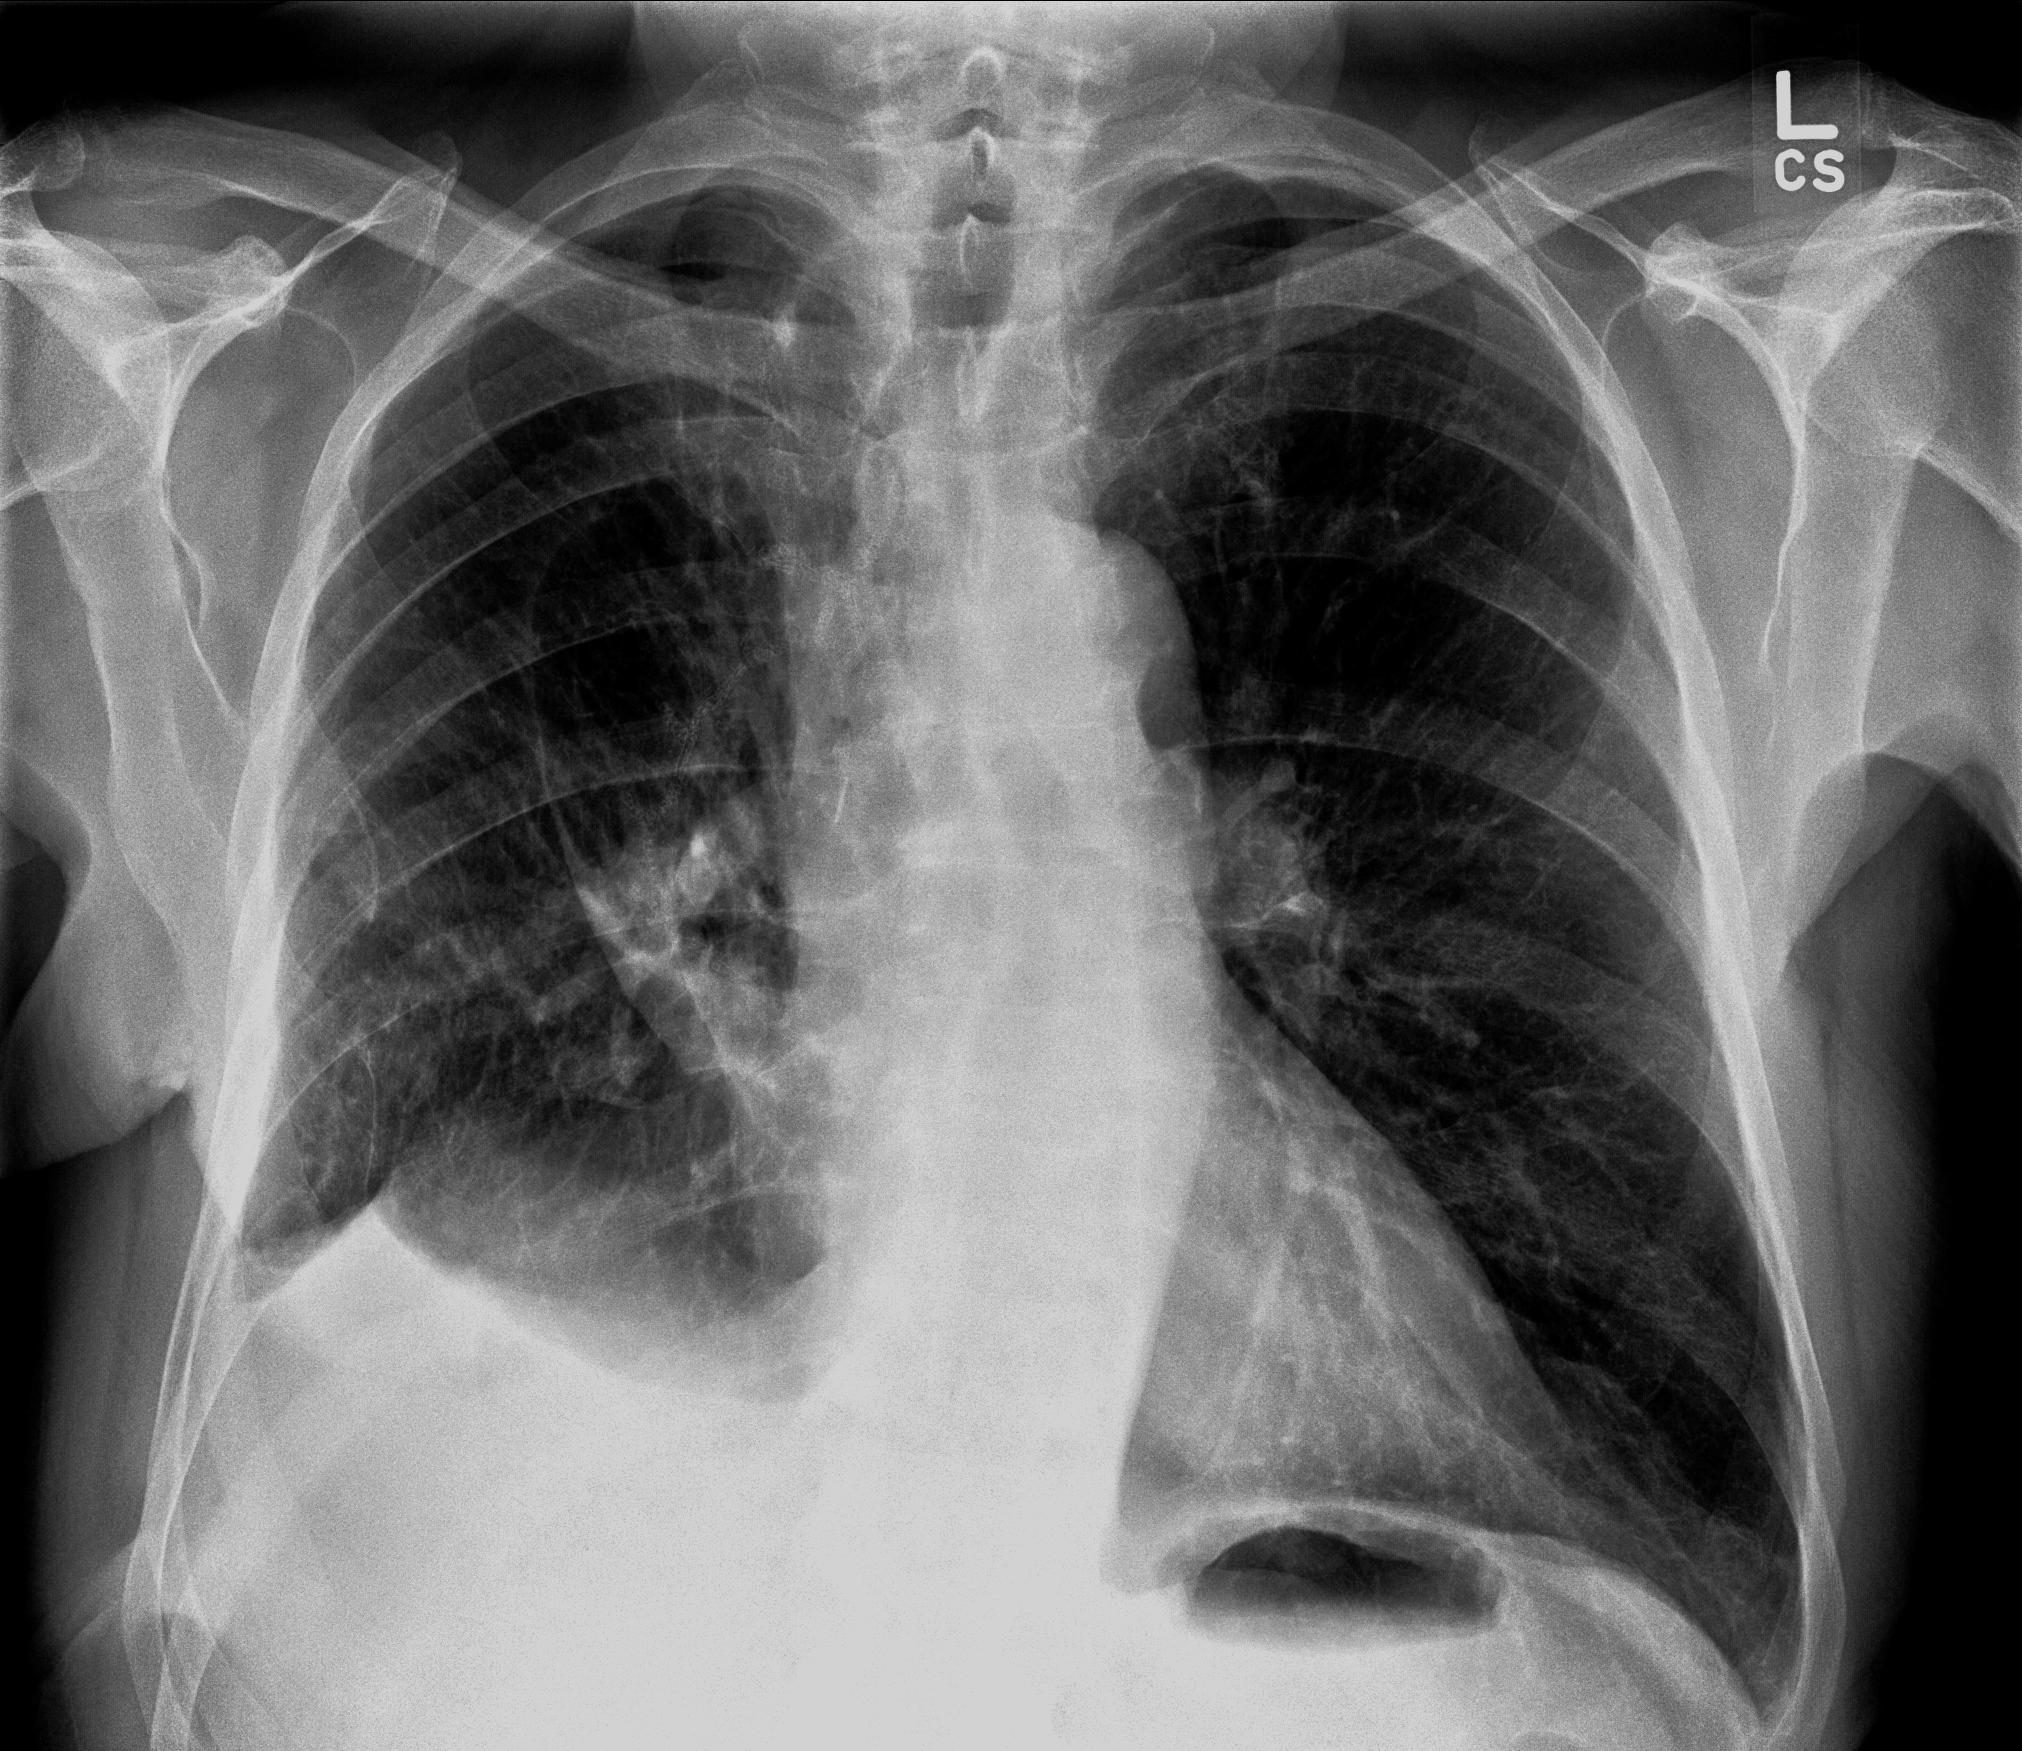Pleural Effusion: (184, 1250, 751, 1706)
